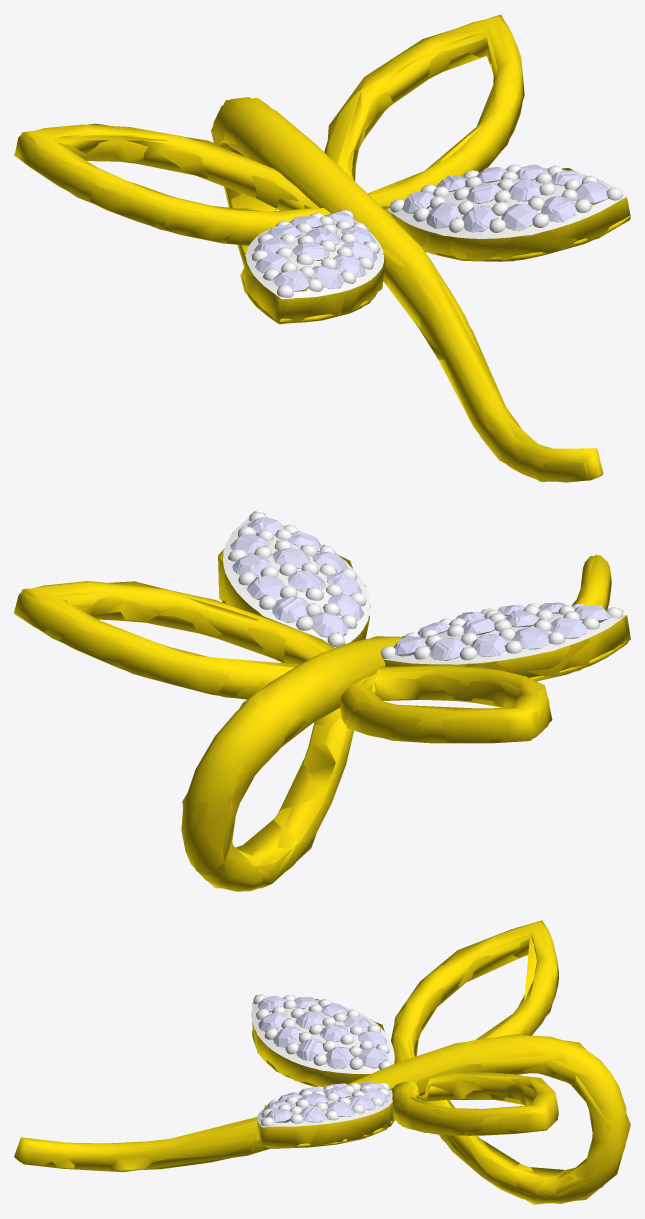
Rendered from DCP-D000710774.glb.
The picture shows the model from 3 angles, top to bottom: view 1: azimuth 30°, elevation 25°; view 2: azimuth 150°, elevation 25°; view 3: azimuth 270°, elevation 25°; orthographic projection. The views are drawn at different scales.
Parts seen in each view (by area): view 1: highPolyMesh, lowPolyMesh; view 2: highPolyMesh, lowPolyMesh; view 3: highPolyMesh, lowPolyMesh.
Part boxes in pixels (x1,y1,x2,y2): highPolyMesh: (15,16,630,482); lowPolyMesh: (14,14,630,481); highPolyMesh: (14,512,627,891); lowPolyMesh: (14,511,630,888); highPolyMesh: (14,922,627,1203); lowPolyMesh: (18,920,630,1204).
Size of the model in its own units: 0.0201 by 0.00884 by 0.0268.
